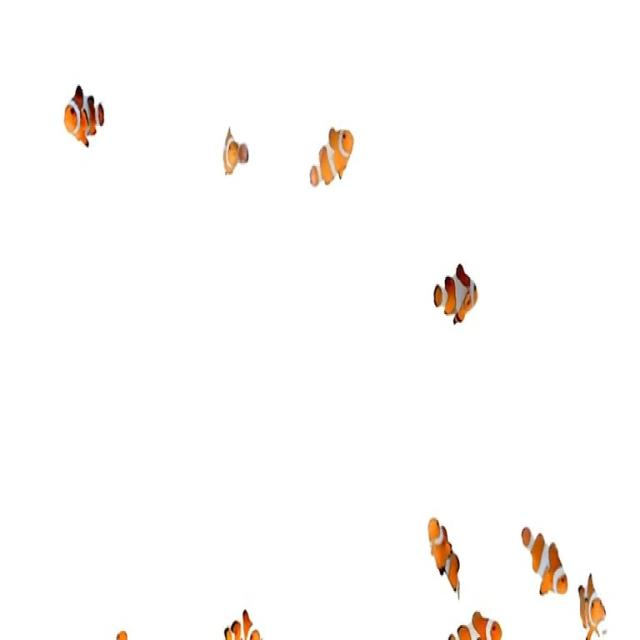fish: (520, 517, 566, 600), (64, 82, 110, 155), (308, 124, 356, 192), (435, 261, 479, 331), (428, 512, 463, 600), (576, 570, 608, 640), (443, 615, 509, 640), (221, 126, 252, 178), (218, 606, 264, 640)
